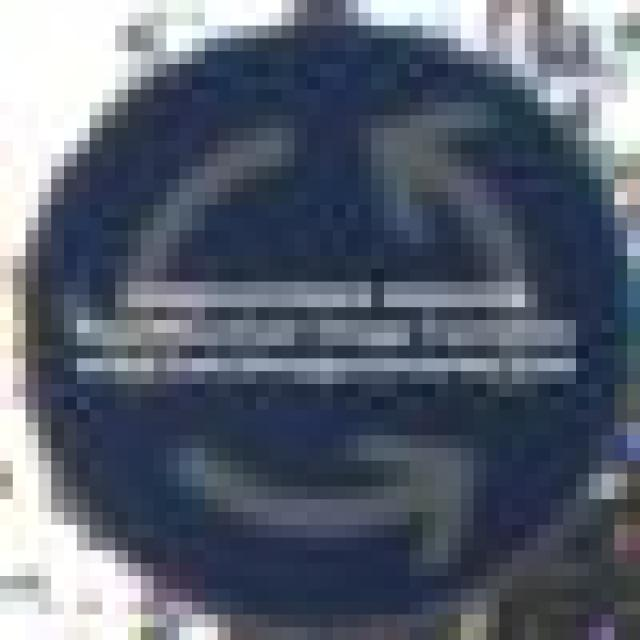ROUNDABOUT: (13, 12, 627, 602)
